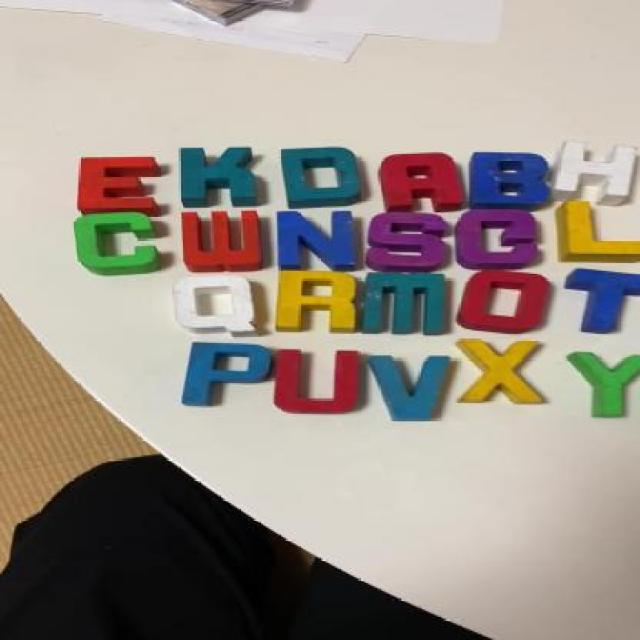A: (380, 153, 466, 210)
B: (467, 152, 550, 210)
C: (76, 212, 158, 276)
D: (282, 148, 367, 206)
E: (74, 156, 160, 212)
G: (453, 211, 541, 267)
H: (548, 143, 640, 200)
K: (173, 147, 265, 204)
L: (560, 201, 638, 264)
M: (361, 272, 450, 332)
N: (278, 212, 360, 272)
O: (461, 271, 553, 332)
P: (180, 343, 272, 403)
Q: (170, 278, 264, 338)
R: (277, 271, 357, 334)
S: (370, 214, 448, 272)
T: (562, 268, 638, 335)
U: (269, 349, 365, 411)
V: (366, 355, 456, 419)
W: (176, 211, 259, 269)
X: (454, 338, 548, 404)
Y: (573, 354, 639, 421)
